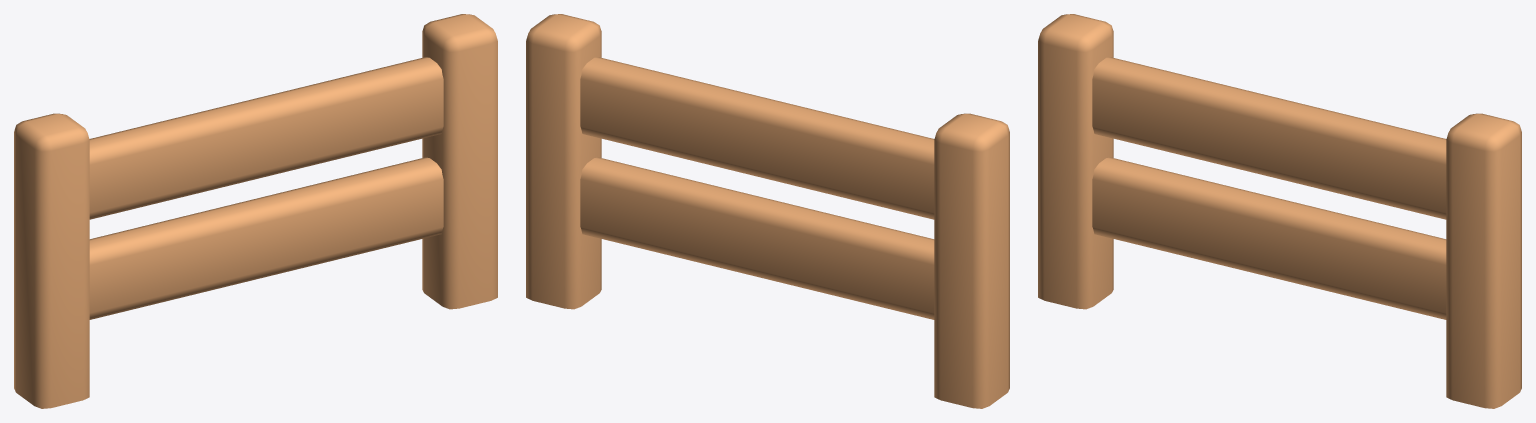
File: Wooden_Fence_01.fbx
The picture shows the model from 3 angles, left to right: view 1: azimuth 30°, elevation 25°; view 2: azimuth 150°, elevation 25°; view 3: azimuth 330°, elevation 25°; orthographic projection.
Parts seen in each view (by area): view 1: Wooden_Fence_01; view 2: Wooden_Fence_01; view 3: Wooden_Fence_01.
Boxes of the visible parts, <box> form: Wooden_Fence_01: <box>14,14,497,408</box>; Wooden_Fence_01: <box>526,14,1009,408</box>; Wooden_Fence_01: <box>1038,14,1521,408</box>.
Size of the model in its own units: 1580 by 878 by 183.
